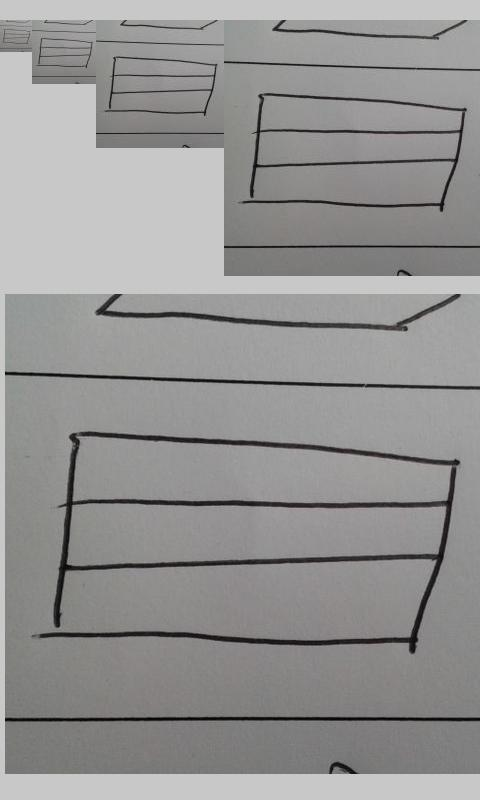list_view: (53, 428, 462, 651), (249, 91, 467, 209), (108, 55, 218, 115), (38, 37, 93, 69), (2, 28, 31, 45)
